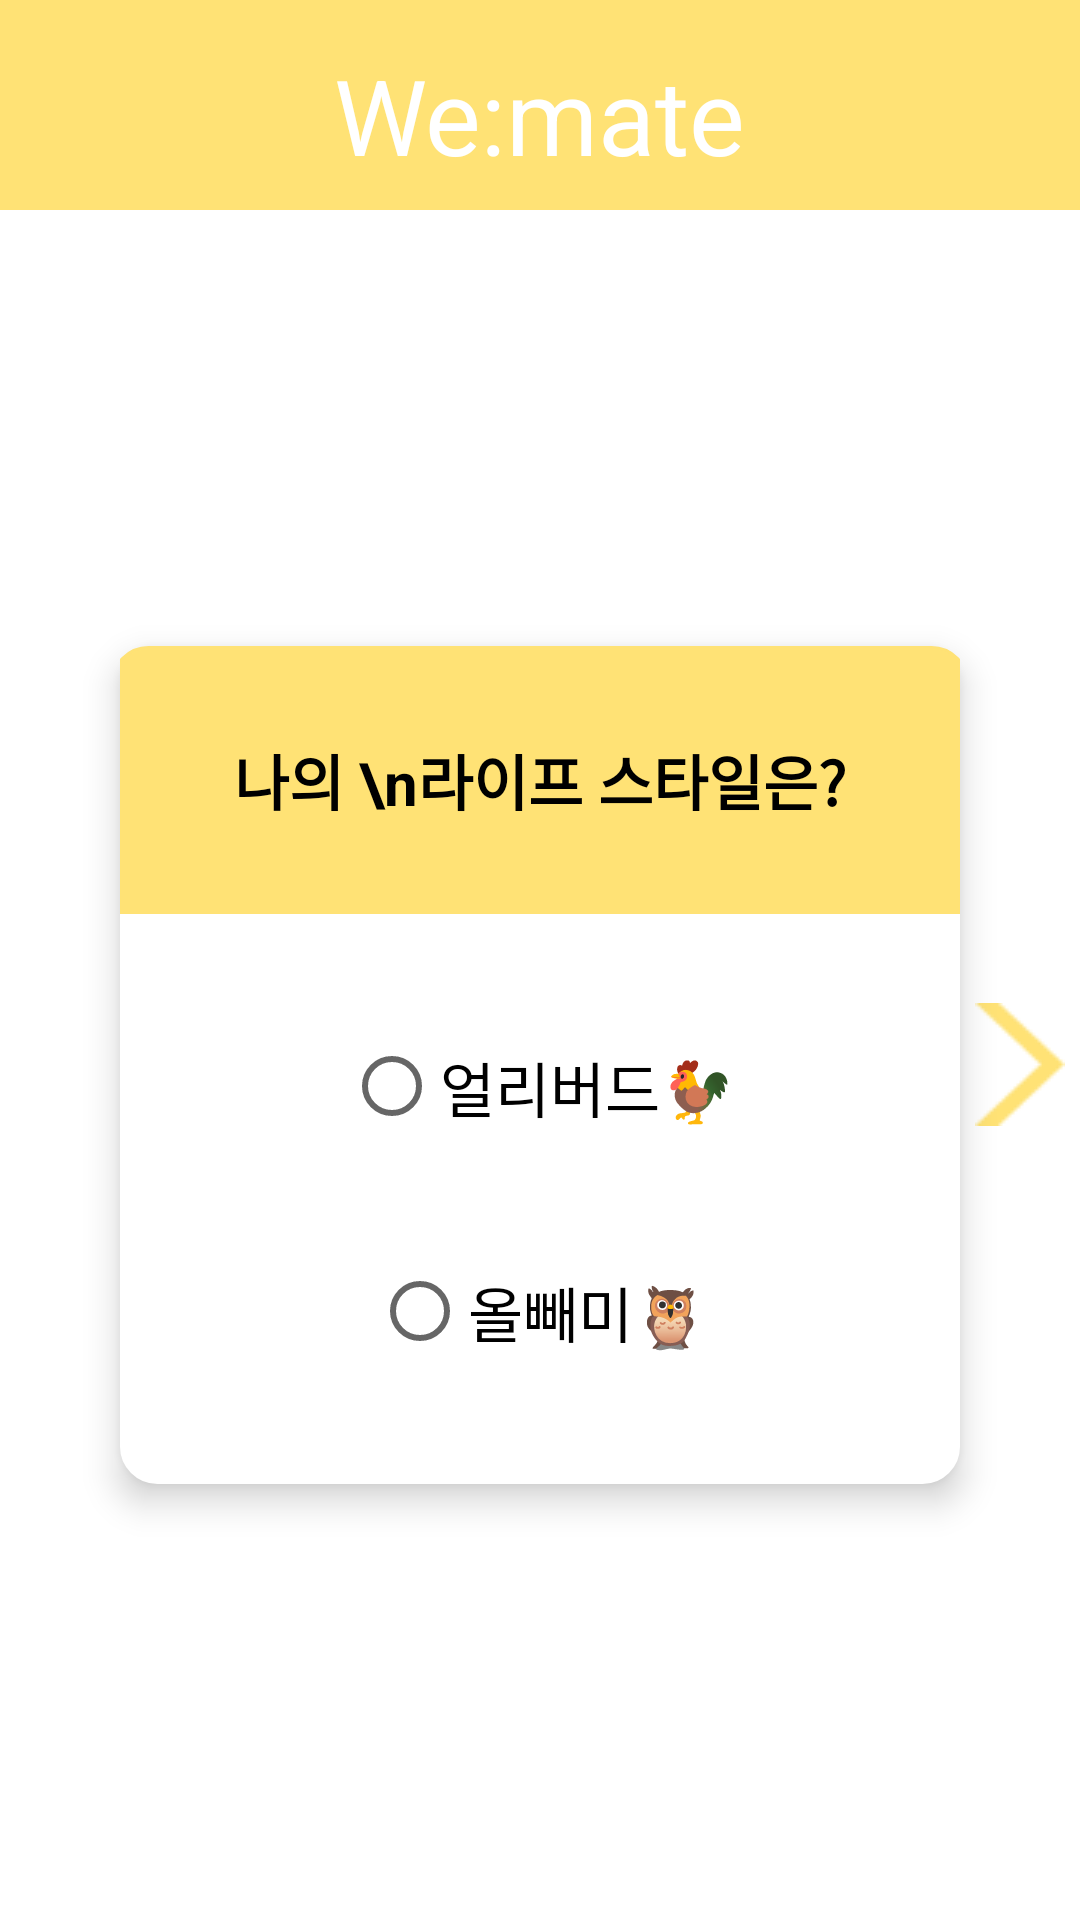

Icons on this 1080px×1920px Android screen, each with the point to tap as [x,y]:
right: [1020,1064]
